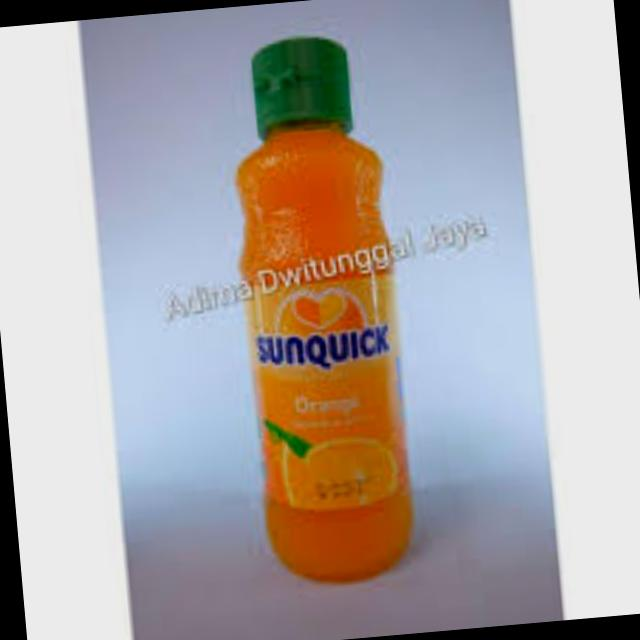trash: (215, 24, 427, 596)
